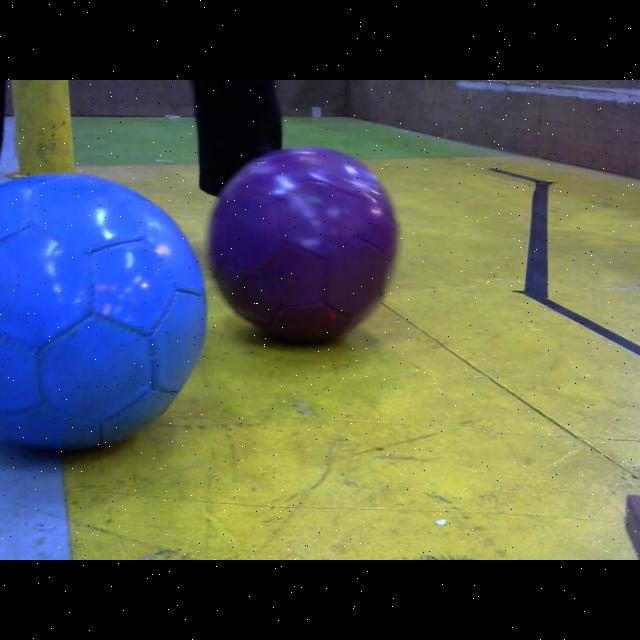B: (0, 172, 212, 450)
P: (207, 144, 395, 340)
